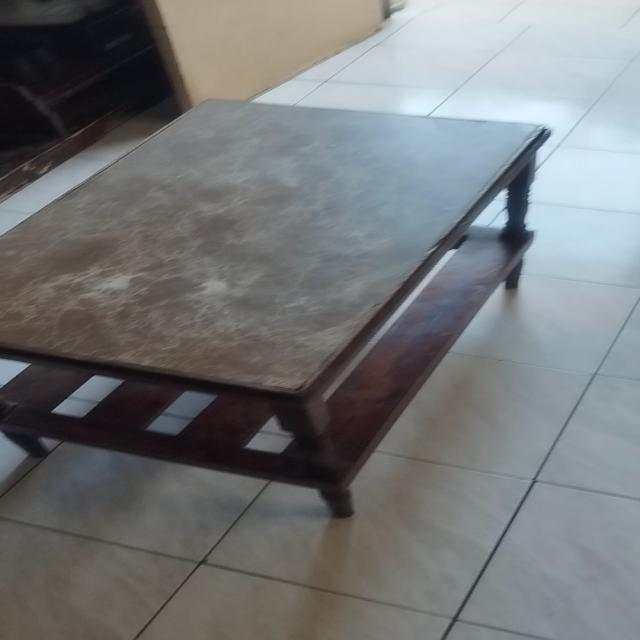table: (0, 94, 559, 523)
